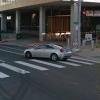Crosswalk: (0, 55, 76, 83)
